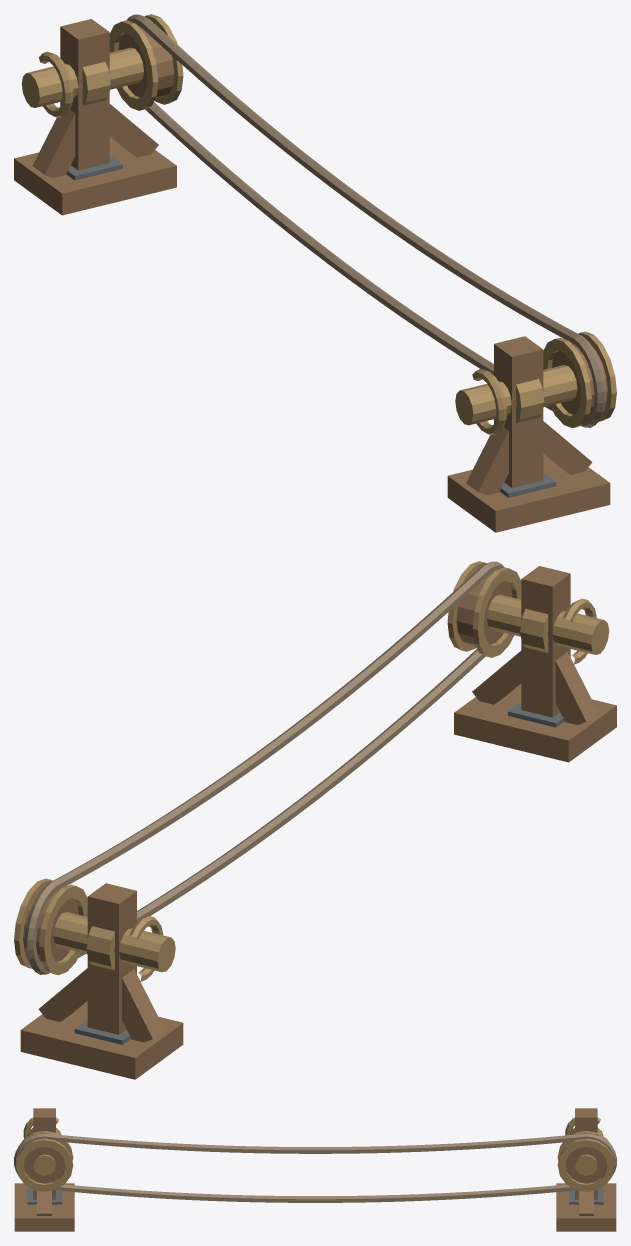
File: vf_rope_4m.glb
3 views of the same model, one above another, from view 1: azimuth 30°, elevation 25°; view 2: azimuth 150°, elevation 25°; view 3: azimuth 270°, elevation 25° (orthographic). The views are drawn at different scales.
Parts seen in each view (by area): view 1: Static_Oak, Belt_Surface_Hide, Static_Bronze, Rotor_Output_Bronze, Rotor_Bronze, Rotor_Oak, Static_Iron, Rotor_Output_Oak; view 2: Static_Oak, Belt_Surface_Hide, Static_Bronze, Rotor_Bronze, Rotor_Output_Bronze, Rotor_Output_Oak, Static_Iron, Rotor_Oak; view 3: Belt_Surface_Hide, Static_Oak, Rotor_Bronze, Rotor_Output_Bronze, Static_Bronze, Rotor_Oak, Rotor_Output_Oak, Static_Iron.
Part boxes in pixels (bbox=[...]): Static_Oak: bbox=[14, 19, 610, 532]; Belt_Surface_Hide: bbox=[126, 14, 606, 427]; Static_Bronze: bbox=[21, 47, 577, 435]; Rotor_Output_Bronze: bbox=[543, 331, 616, 428]; Rotor_Bronze: bbox=[109, 14, 183, 110]; Rotor_Oak: bbox=[118, 26, 174, 98]; Static_Iron: bbox=[66, 155, 556, 497]; Rotor_Output_Oak: bbox=[552, 342, 607, 415]; Static_Oak: bbox=[20, 566, 616, 1079]; Belt_Surface_Hide: bbox=[24, 561, 504, 974]; Static_Bronze: bbox=[53, 594, 609, 981]; Rotor_Bronze: bbox=[14, 878, 87, 975]; Rotor_Output_Bronze: bbox=[447, 561, 521, 657]; Rotor_Output_Oak: bbox=[456, 573, 512, 645]; Static_Iron: bbox=[74, 702, 564, 1044]; Rotor_Oak: bbox=[23, 889, 78, 962]; Belt_Surface_Hide: bbox=[14, 1133, 616, 1202]; Static_Oak: bbox=[14, 1108, 616, 1231]; Rotor_Bronze: bbox=[557, 1131, 614, 1191]; Rotor_Output_Bronze: bbox=[16, 1131, 73, 1191]; Static_Bronze: bbox=[23, 1117, 603, 1175]; Rotor_Oak: bbox=[565, 1141, 607, 1183]; Rotor_Output_Oak: bbox=[23, 1141, 65, 1183]; Static_Iron: bbox=[27, 1187, 603, 1204].
Size of the model in its own units: 0.6225 by 0.72 by 4.01.
